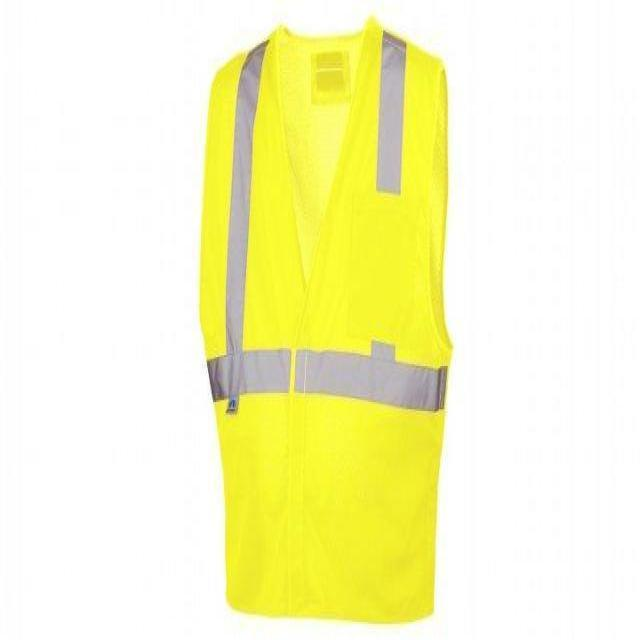Vest: (200, 14, 454, 626)
